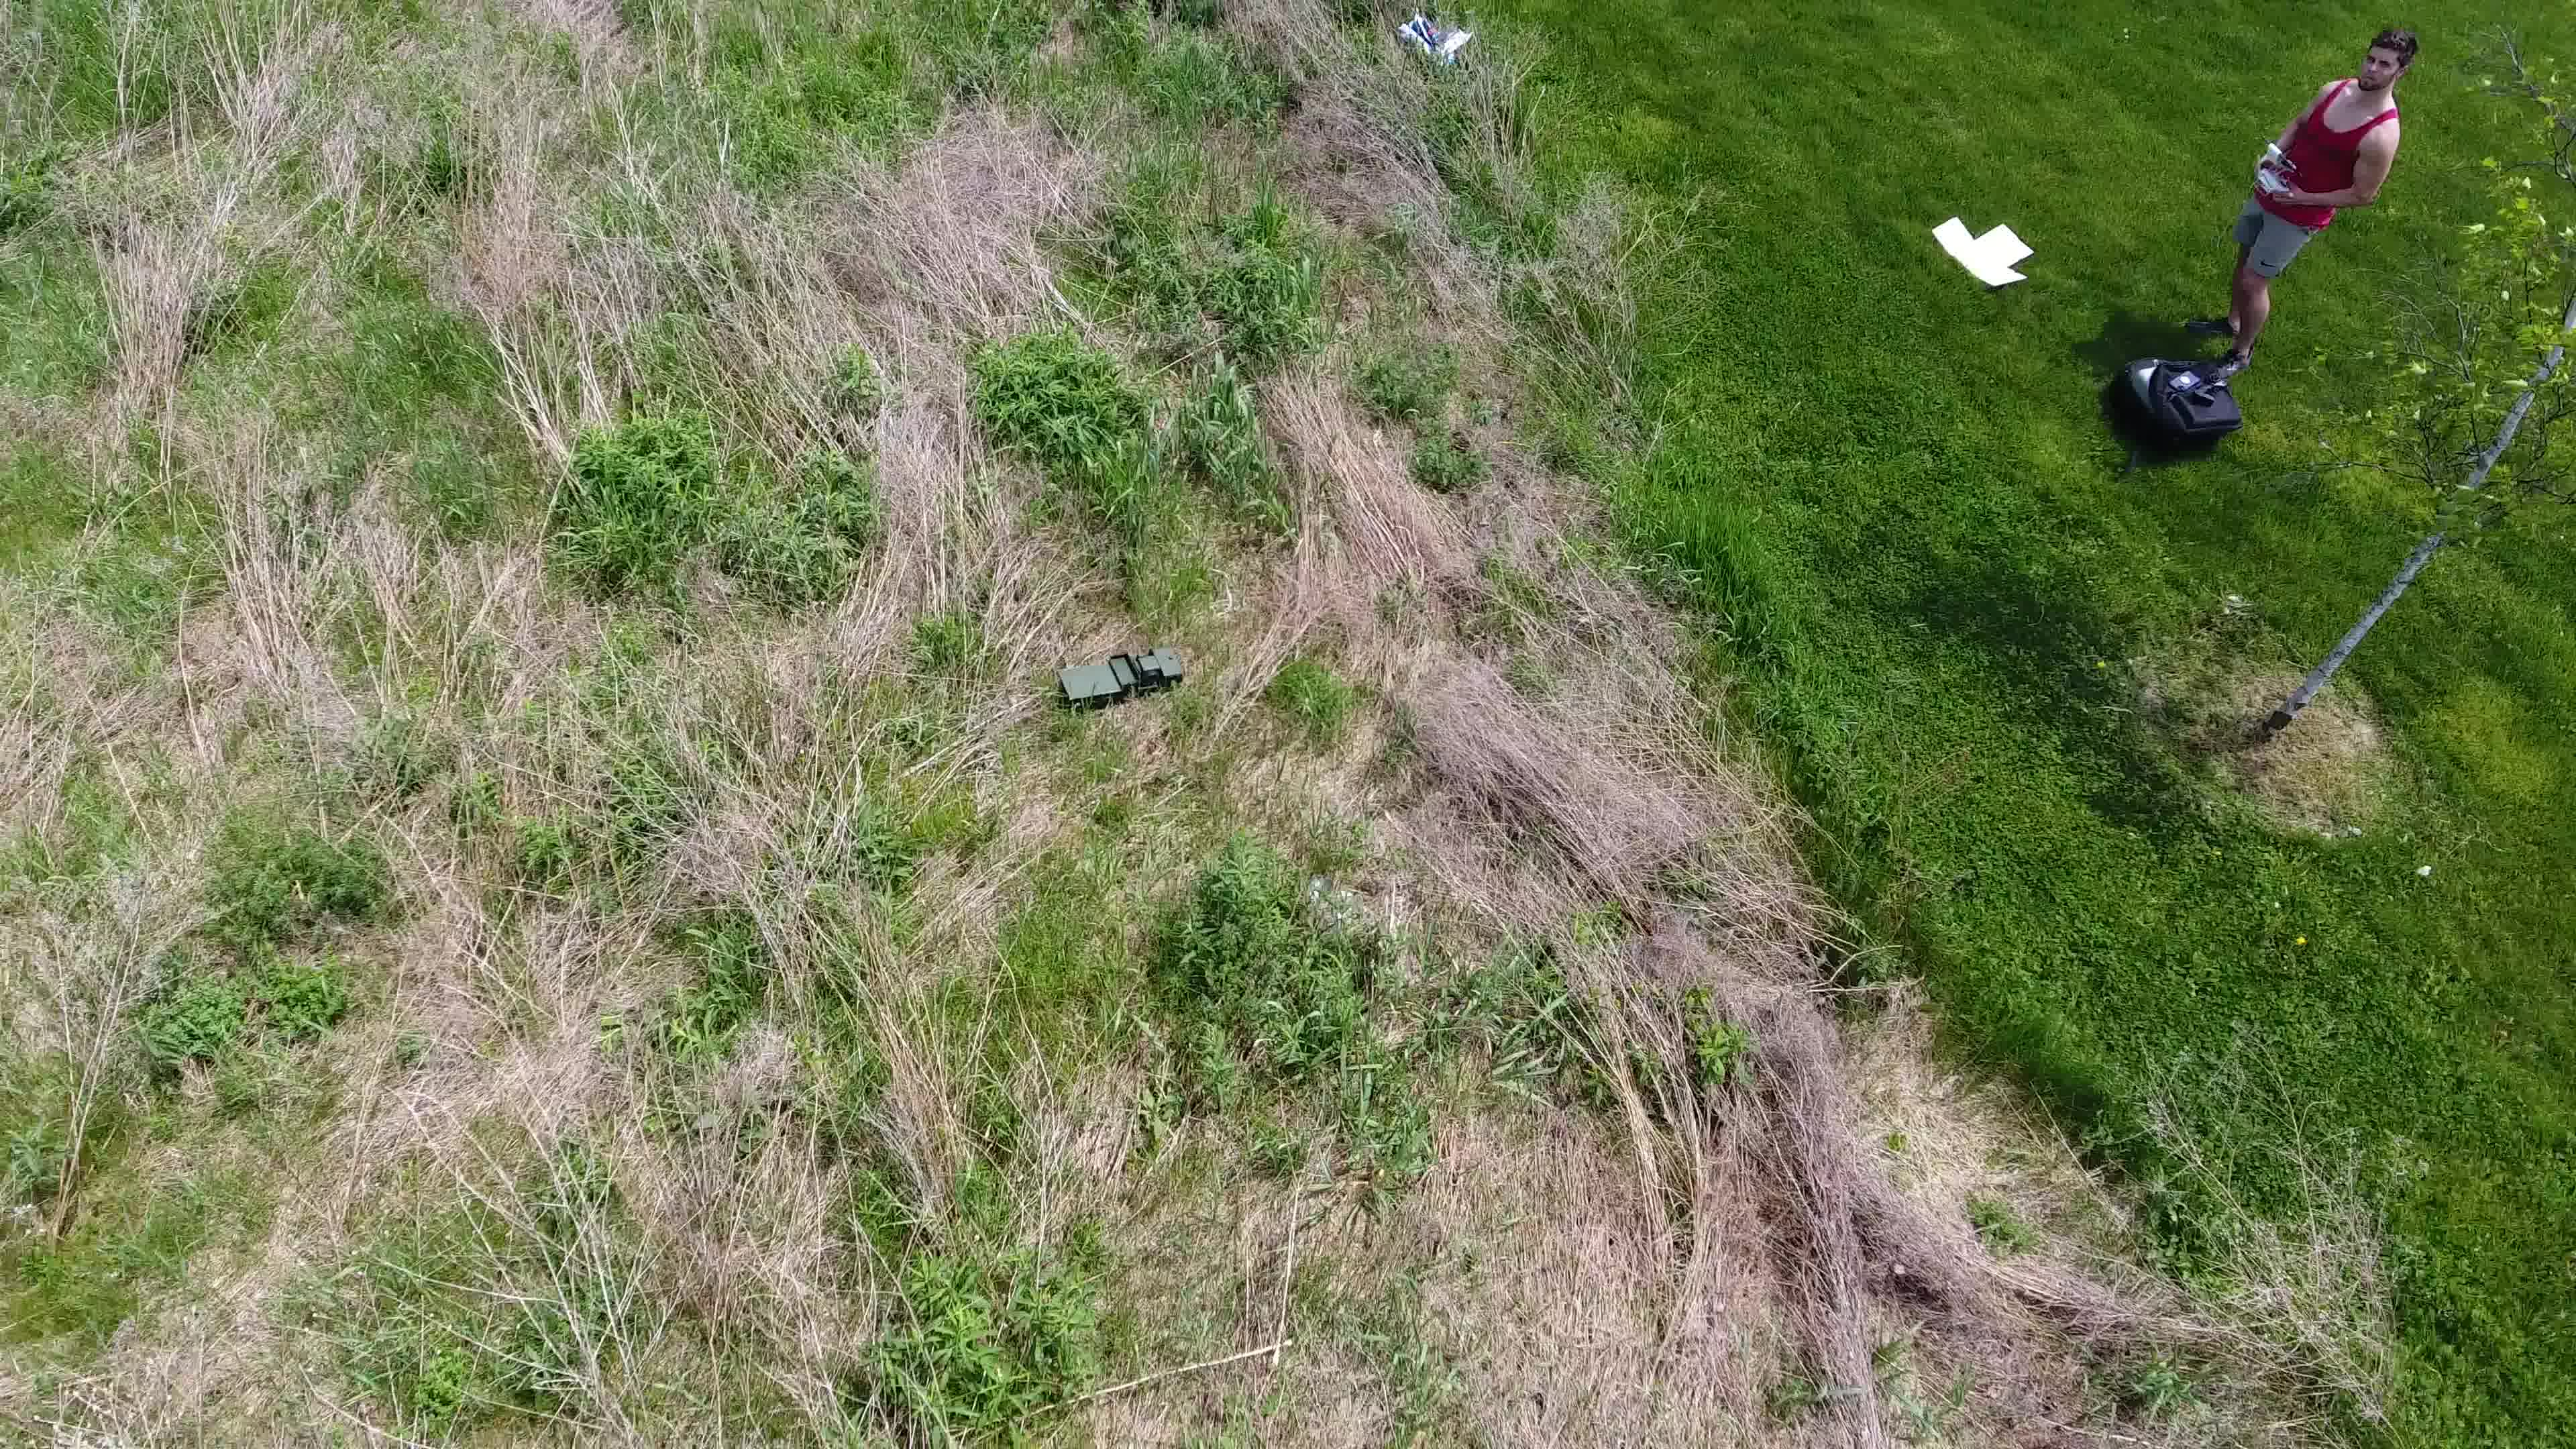transporter9: (1053, 642, 1194, 706)
